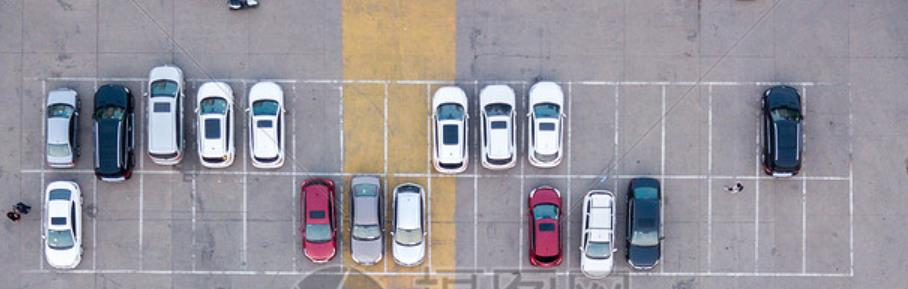car: (86, 81, 137, 184), (758, 82, 807, 179), (426, 84, 476, 178), (473, 79, 523, 173), (144, 63, 189, 167), (245, 77, 291, 171), (574, 187, 621, 279), (344, 174, 389, 268), (191, 80, 236, 171), (41, 183, 87, 271), (521, 184, 567, 271), (623, 177, 665, 272), (523, 80, 568, 168), (299, 176, 342, 268), (40, 85, 84, 173), (388, 180, 431, 267)
